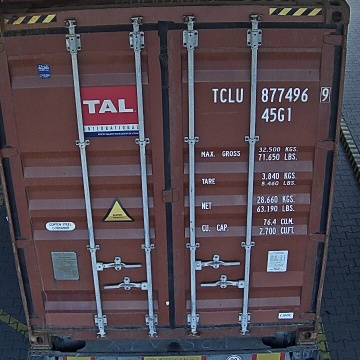serial_id: (212, 87, 330, 102)
